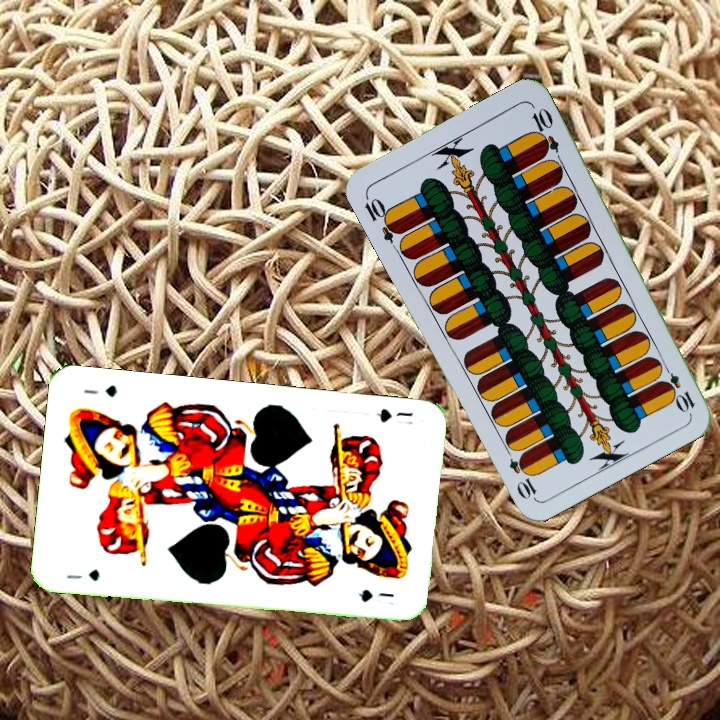E10: (360, 191, 404, 245), (657, 359, 698, 414)
GU: (372, 404, 416, 427), (63, 565, 102, 583)
